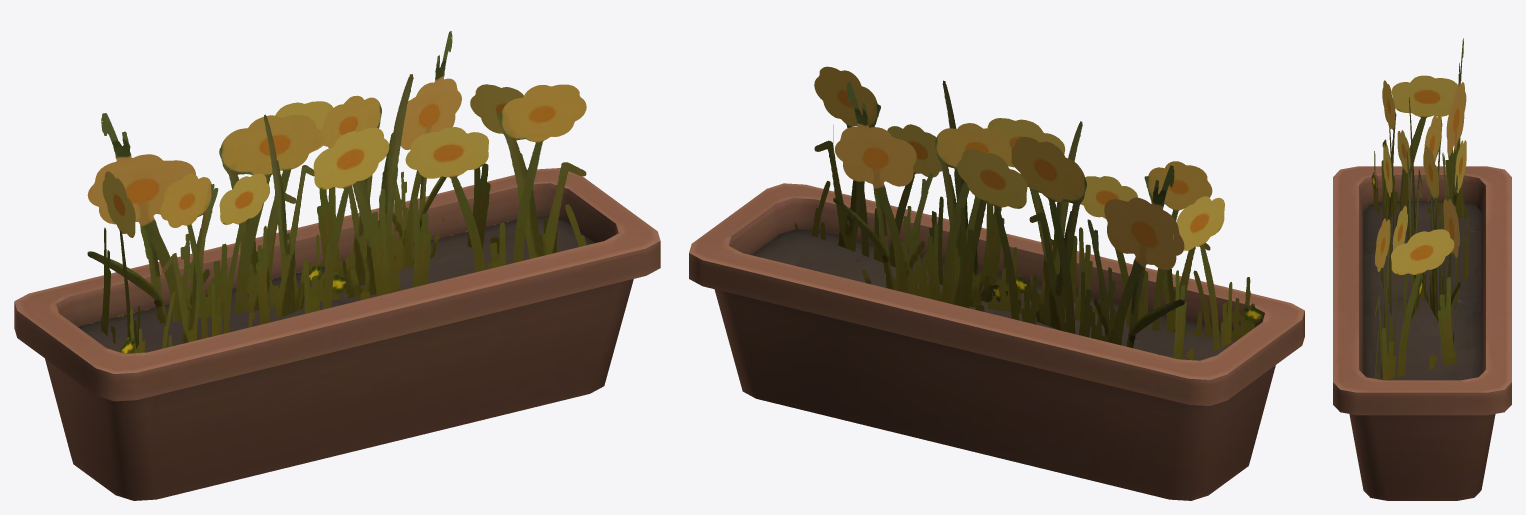
3 renders of one model, left to right at view 1: azimuth 30°, elevation 25°; view 2: azimuth 150°, elevation 25°; view 3: azimuth 270°, elevation 25°, orthographic. The views are drawn at different scales.
Parts seen in each view (by area): view 1: body0_model0_lod0_mesh0; view 2: body0_model0_lod0_mesh0; view 3: body0_model0_lod0_mesh0.
Boxes of the visible parts, box(x1,y1,x2,y2) form: body0_model0_lod0_mesh0: box(14, 31, 660, 500); body0_model0_lod0_mesh0: box(689, 66, 1304, 500); body0_model0_lod0_mesh0: box(1333, 38, 1511, 500).
Bounding box in the file's own units: 49.97 × 30.55 × 16.69.
Materials: 1 (1 with a texture image).
